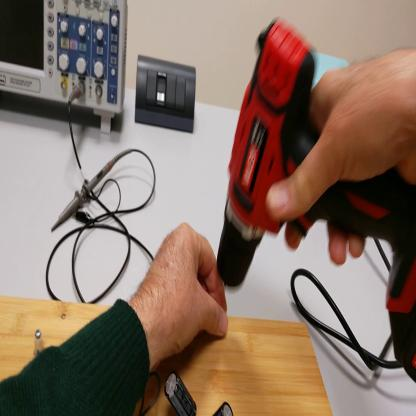electric screwdriver: (215, 27, 416, 384)
hand: (266, 52, 414, 270), (138, 221, 230, 363)
high voltage board: (141, 372, 232, 414)
oscilloscope: (1, 1, 132, 135)
oscilloscope probe tip: (50, 145, 130, 234)
working area: (1, 299, 333, 416)
